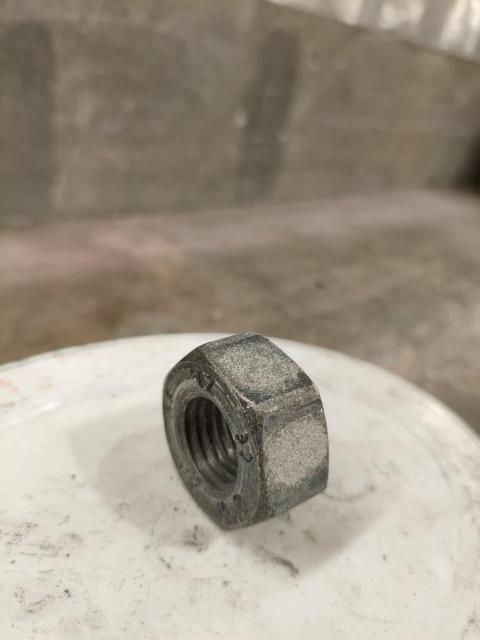Metal: (152, 332, 333, 528)
